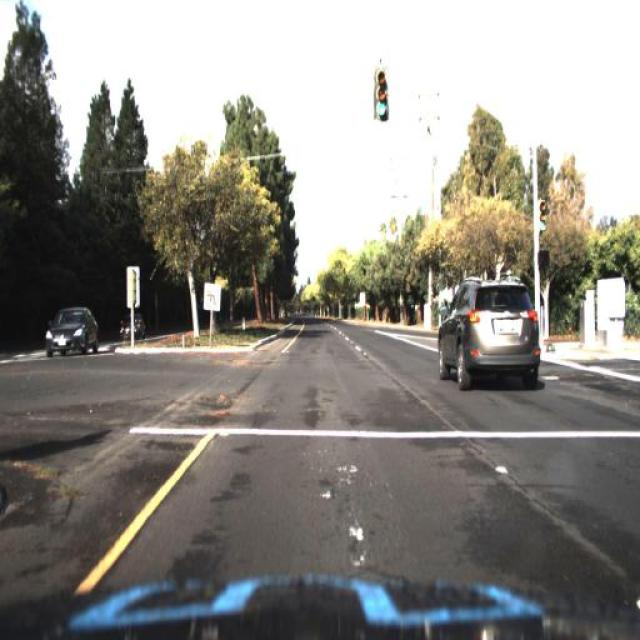car: (437, 276, 542, 393), (42, 296, 99, 358), (114, 307, 146, 348), (115, 308, 149, 340)
trafficLight-GreenLeft: (370, 67, 391, 125), (373, 61, 388, 124), (533, 192, 548, 240), (535, 193, 549, 228)
